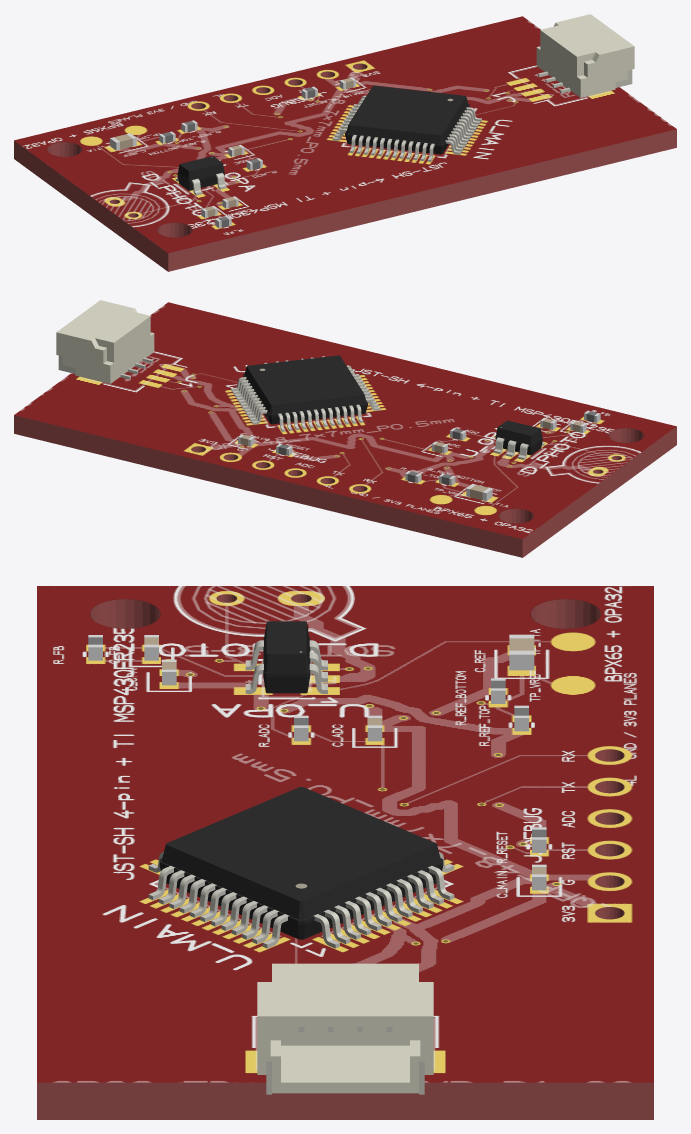
3 renders of one model, top to bottom at view 1: azimuth 30°, elevation 25°; view 2: azimuth 150°, elevation 25°; view 3: azimuth 270°, elevation 25°, orthographic. The views are drawn at different scales.
Visible parts, largest first — view 1: Box0, U_MAIN, J1, U_OPA; view 2: Box0, U_MAIN, J1, U_OPA; view 3: Box0, U_MAIN, J1, U_OPA, C_REF.
Boxes of the visible parts, x1,y1,x2,y2 form: Box0: (14,16,676,271); U_MAIN: (332,85,481,161); J1: (536,14,634,97); U_OPA: (175,156,226,195); Box0: (14,302,676,557); U_MAIN: (231,355,380,431); J1: (56,300,154,383); U_OPA: (493,420,544,459); Box0: (37,586,653,1119); U_MAIN: (148,787,454,948); J1: (257,963,433,1094); U_OPA: (245,621,327,693); C_REF: (509,634,534,670).
Size of the model in its own units: 41 by 4.36 by 21.
10 materials, 2 textured.
